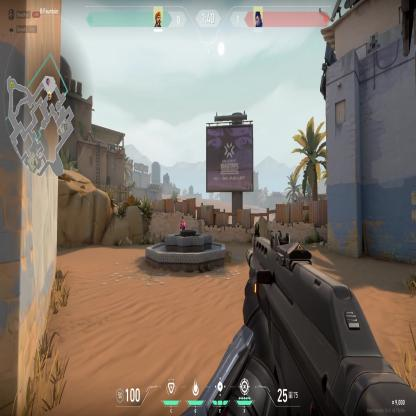enemy: (179, 216, 186, 230)
